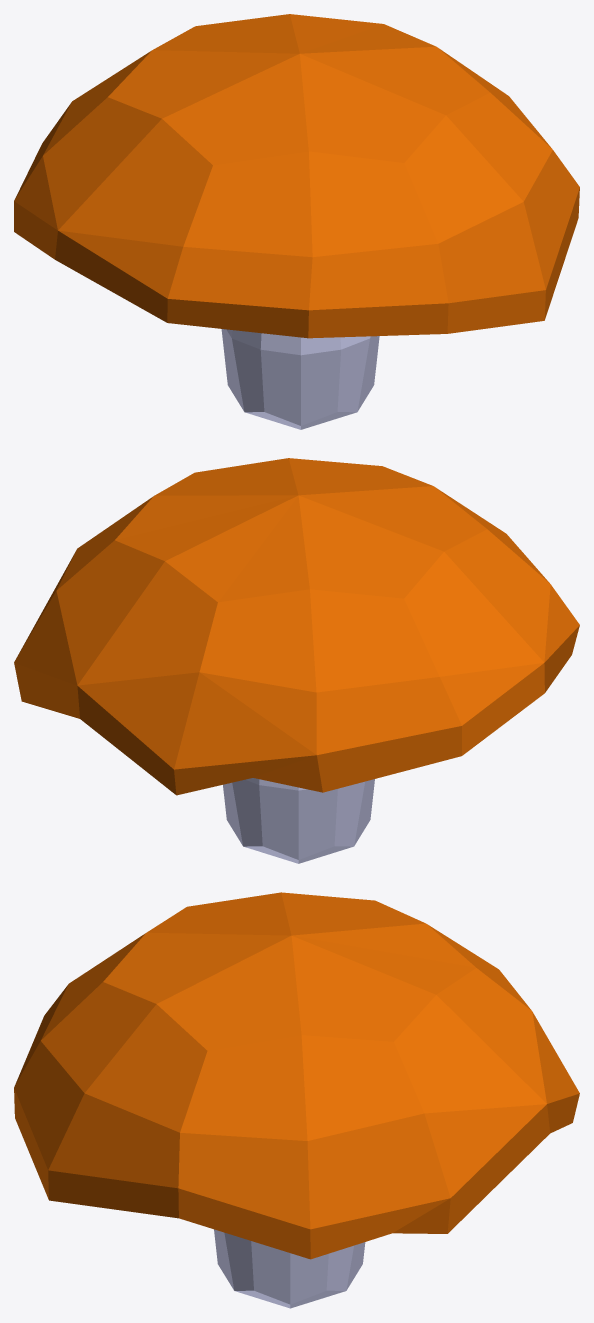
File: Grzyb2v2.fbx
3 renders of one model, top to bottom at view 1: azimuth 30°, elevation 25°; view 2: azimuth 150°, elevation 25°; view 3: azimuth 270°, elevation 25°, orthographic.
Visible parts, largest first — view 1: Walec.001, Walec; view 2: Walec.001, Walec; view 3: Walec.001, Walec.
Boxes of the visible parts, x1,y1,x2,y2 form: Walec.001: (14,14,579,338); Walec: (221,329,379,429); Walec.001: (14,458,579,795); Walec: (223,778,374,863); Walec.001: (14,892,579,1259); Walec: (214,1229,365,1308).
Bounding box in the file's own units: 291 × 210 × 289.
